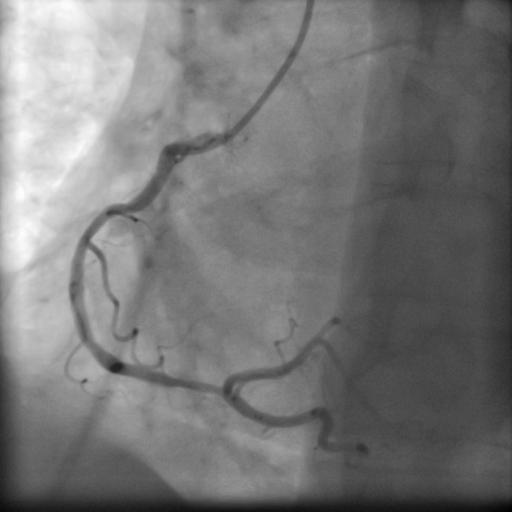Stenosis: (170, 371, 222, 407)
